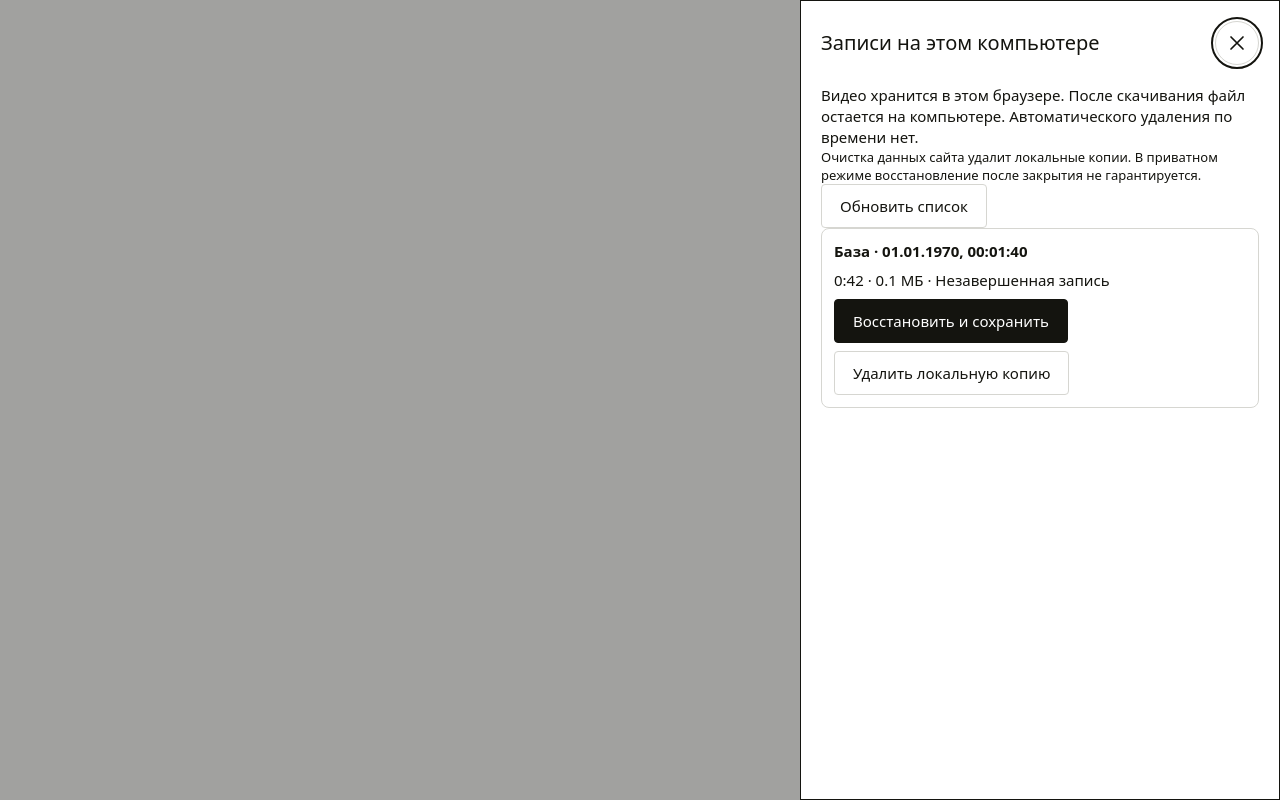
Scenario: local recordings UI › keeps an export error visible after refreshing the still available local copy
Click the button "Восстановить и сохранить" at (951,321), box [834,299,1068,343]
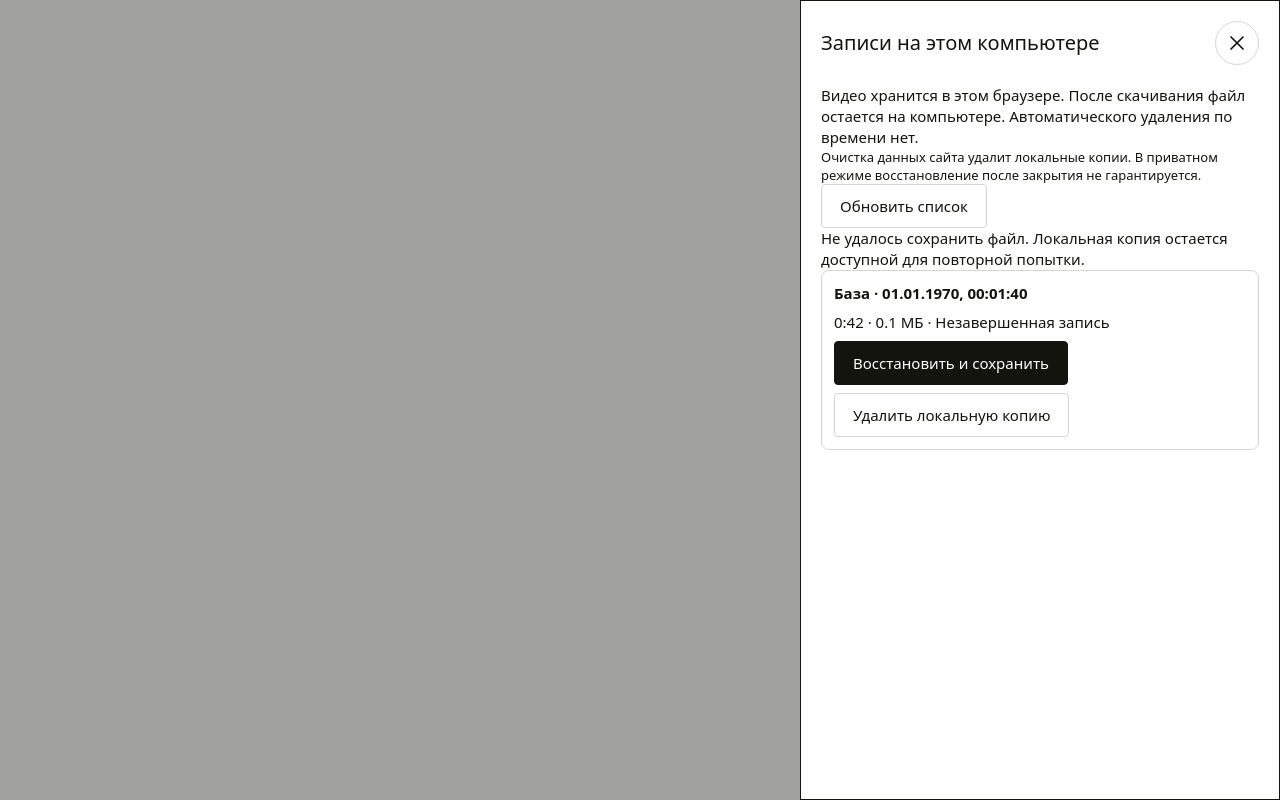
Check: the button "Восстановить и сохранить" is enabled, box [834,341,1068,385]
Check: the message is shown, box [821,228,1259,270]
Check: the message shows "Локальная копия остается доступной", box [821,228,1228,269]
